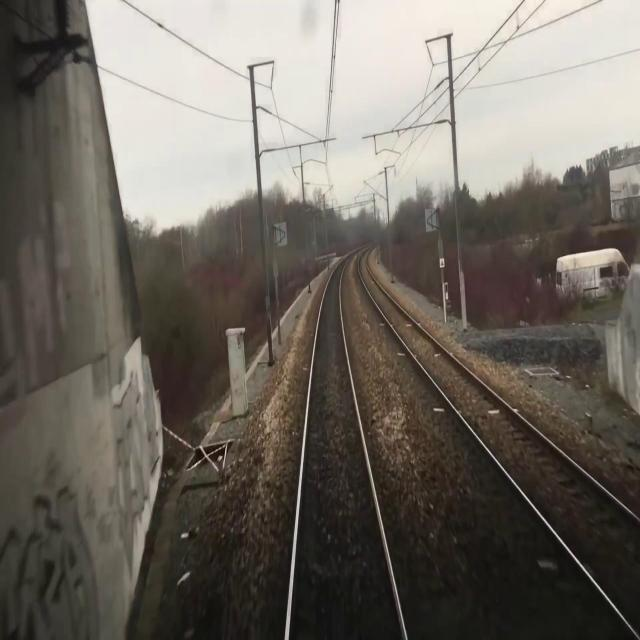rail-track: (359, 247, 640, 635), (289, 247, 402, 639)
